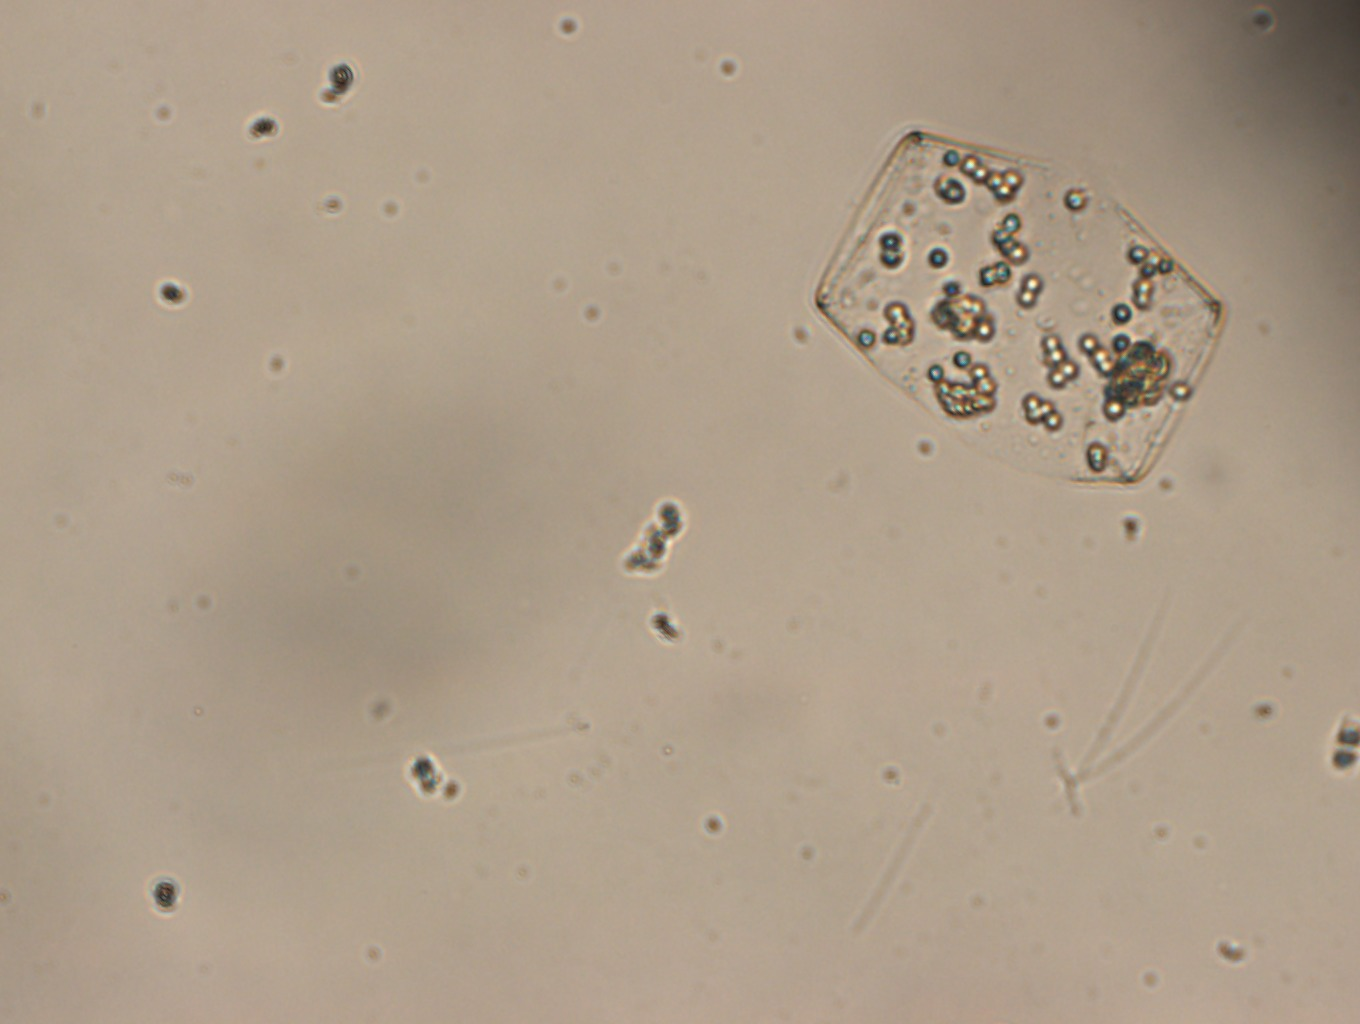guinardia flaccida: (808, 115, 1231, 493)
